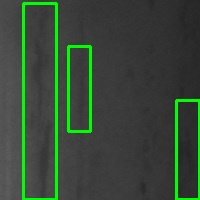inclusion: (23, 3, 56, 199), (176, 100, 199, 199), (68, 46, 90, 131)
